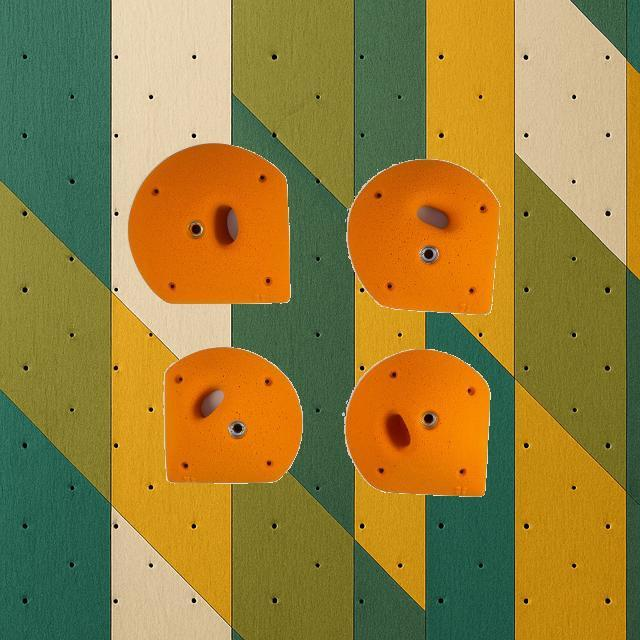Pocket: (127, 142, 291, 302), (346, 158, 499, 314), (344, 348, 490, 496), (164, 346, 302, 482)
